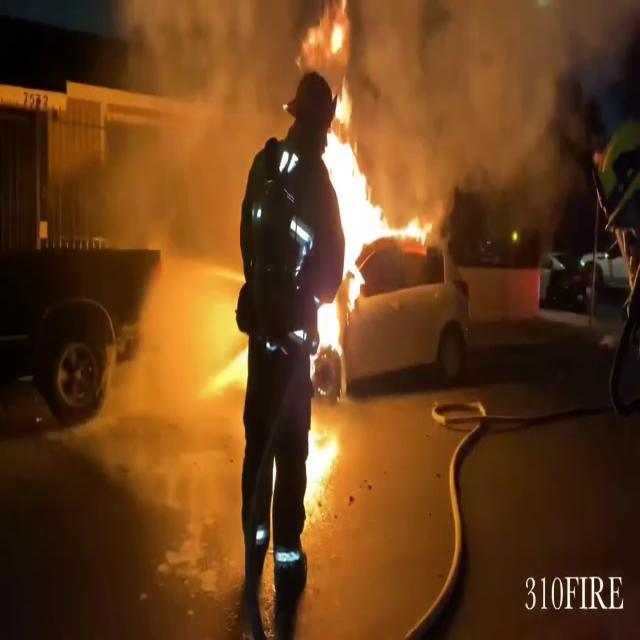Fire: (313, 136, 382, 337), (306, 416, 343, 520), (397, 209, 435, 249)
Smoke: (83, 0, 314, 333), (354, 1, 610, 212)
